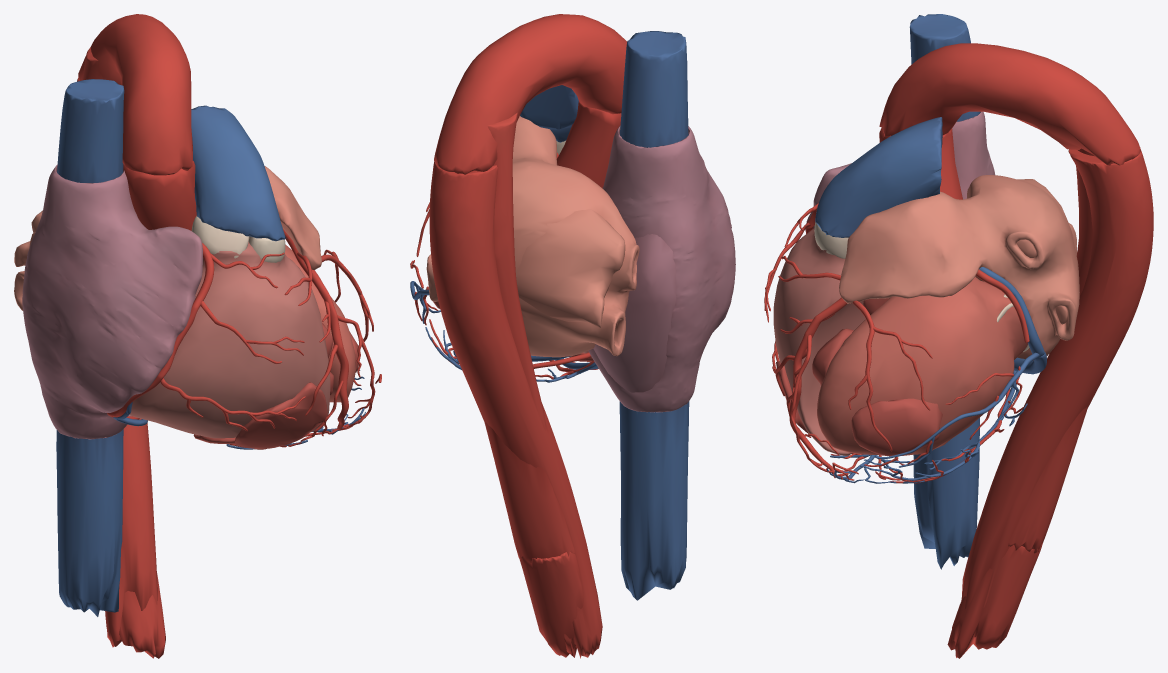
Rendered from heart.glb.
The picture shows the model from 3 angles, left to right: view 1: azimuth 30°, elevation 25°; view 2: azimuth 150°, elevation 25°; view 3: azimuth 270°, elevation 25°; orthographic projection. The views are drawn at different scales.
Visible parts, largest first — view 1: Right atrium, Aorta, Right ventricle, Inferior vena cava, Pulmonary trunk, Superior vena cava, Left coronary artery, Right coronary artery, Papillary muscle (right), Left atrium, Pulmonary valve, Left ventricle (+1 smaller); view 2: Aorta, Right atrium, Left atrium, Inferior vena cava, Superior vena cava, Pulmonary trunk, Coronary sinus, Right coronary artery, Left coronary artery; view 3: Aorta, Left atrium, Left ventricle, Pulmonary trunk, Right ventricle, Inferior vena cava, Left coronary artery, Papillary muscle (left), Coronary sinus, Right atrium, Superior vena cava, Right coronary artery (+2 smaller).
Boxes of the visible parts, x1,y1,x2,y2 form: Right atrium: [22, 164, 202, 439]; Aorta: [77, 14, 196, 658]; Right ventricle: [129, 242, 330, 438]; Inferior vena cava: [56, 429, 123, 616]; Pulmonary trunk: [191, 105, 286, 241]; Superior vena cava: [57, 79, 124, 183]; Left coronary artery: [283, 229, 381, 441]; Right coronary artery: [107, 243, 352, 449]; Papillary muscle (right): [193, 382, 327, 448]; Left atrium: [14, 166, 321, 310]; Pulmonary valve: [191, 216, 285, 262]; Left ventricle: [284, 244, 356, 402]; Aorta: [429, 14, 626, 658]; Right atrium: [588, 125, 735, 412]; Left atrium: [426, 116, 639, 357]; Inferior vena cava: [619, 401, 689, 600]; Superior vena cava: [619, 31, 688, 147]; Pulmonary trunk: [520, 85, 578, 142]; Coronary sinus: [410, 281, 598, 382]; Right coronary artery: [429, 319, 598, 379]; Left coronary artery: [410, 152, 558, 325]; Aorta: [879, 43, 1153, 658]; Left atrium: [839, 175, 1079, 360]; Left ventricle: [817, 276, 1027, 455]; Pulmonary trunk: [815, 117, 942, 237]; Right ventricle: [773, 228, 865, 455]; Inferior vena cava: [913, 418, 979, 569]; Left coronary artery: [775, 256, 1029, 480]; Papillary muscle (left): [812, 328, 942, 456]; Coronary sinus: [824, 267, 1046, 483]; Right atrium: [805, 111, 995, 231]; Superior vena cava: [909, 14, 980, 121]; Right coronary artery: [764, 203, 1023, 483].
Size of the model in its own units: 1.92 by 3.8 by 2.18.
